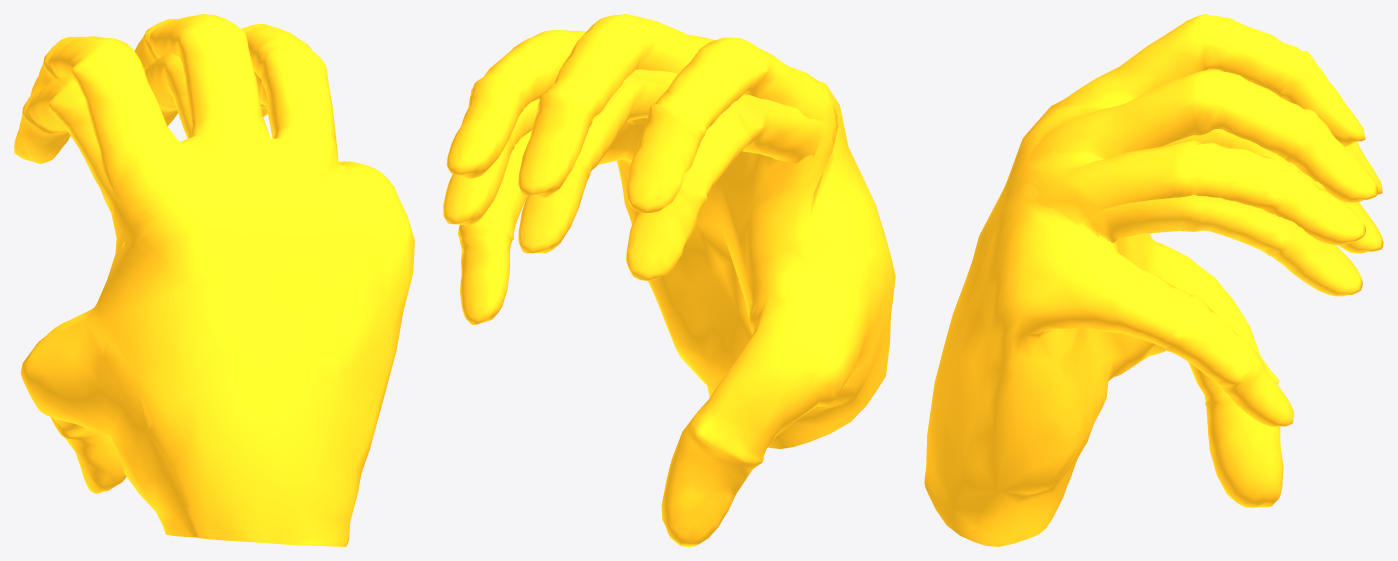
Rendered from ghost-hand-trumpet.glb.
The picture shows the model from 3 angles, left to right: view 1: azimuth 30°, elevation 25°; view 2: azimuth 150°, elevation 25°; view 3: azimuth 270°, elevation 25°; orthographic projection. The views are drawn at different scales.
Visible parts, largest first — view 1: TrumpetHand_Press1, TrumpetHand_Press3, TrumpetHand_Rest, TrumpetHand_Press2; view 2: TrumpetHand_Press2, TrumpetHand_Press1, TrumpetHand_Press3, TrumpetHand_Rest; view 3: TrumpetHand_Press3, TrumpetHand_Press1, TrumpetHand_Rest, TrumpetHand_Press2.
Part boxes in pixels (x1,y1,x2,y2): TrumpetHand_Press1: [14, 14, 389, 546]; TrumpetHand_Press3: [23, 14, 414, 546]; TrumpetHand_Rest: [21, 15, 412, 545]; TrumpetHand_Press2: [20, 24, 414, 546]; TrumpetHand_Press2: [446, 31, 894, 546]; TrumpetHand_Press1: [447, 15, 895, 546]; TrumpetHand_Press3: [443, 14, 890, 545]; TrumpetHand_Rest: [456, 15, 888, 534]; TrumpetHand_Press3: [924, 14, 1368, 546]; TrumpetHand_Press1: [924, 69, 1382, 545]; TrumpetHand_Rest: [962, 14, 1377, 544]; TrumpetHand_Press2: [931, 14, 1383, 545].
Size of the model in its own units: 0.0993 by 0.129 by 0.1108.
